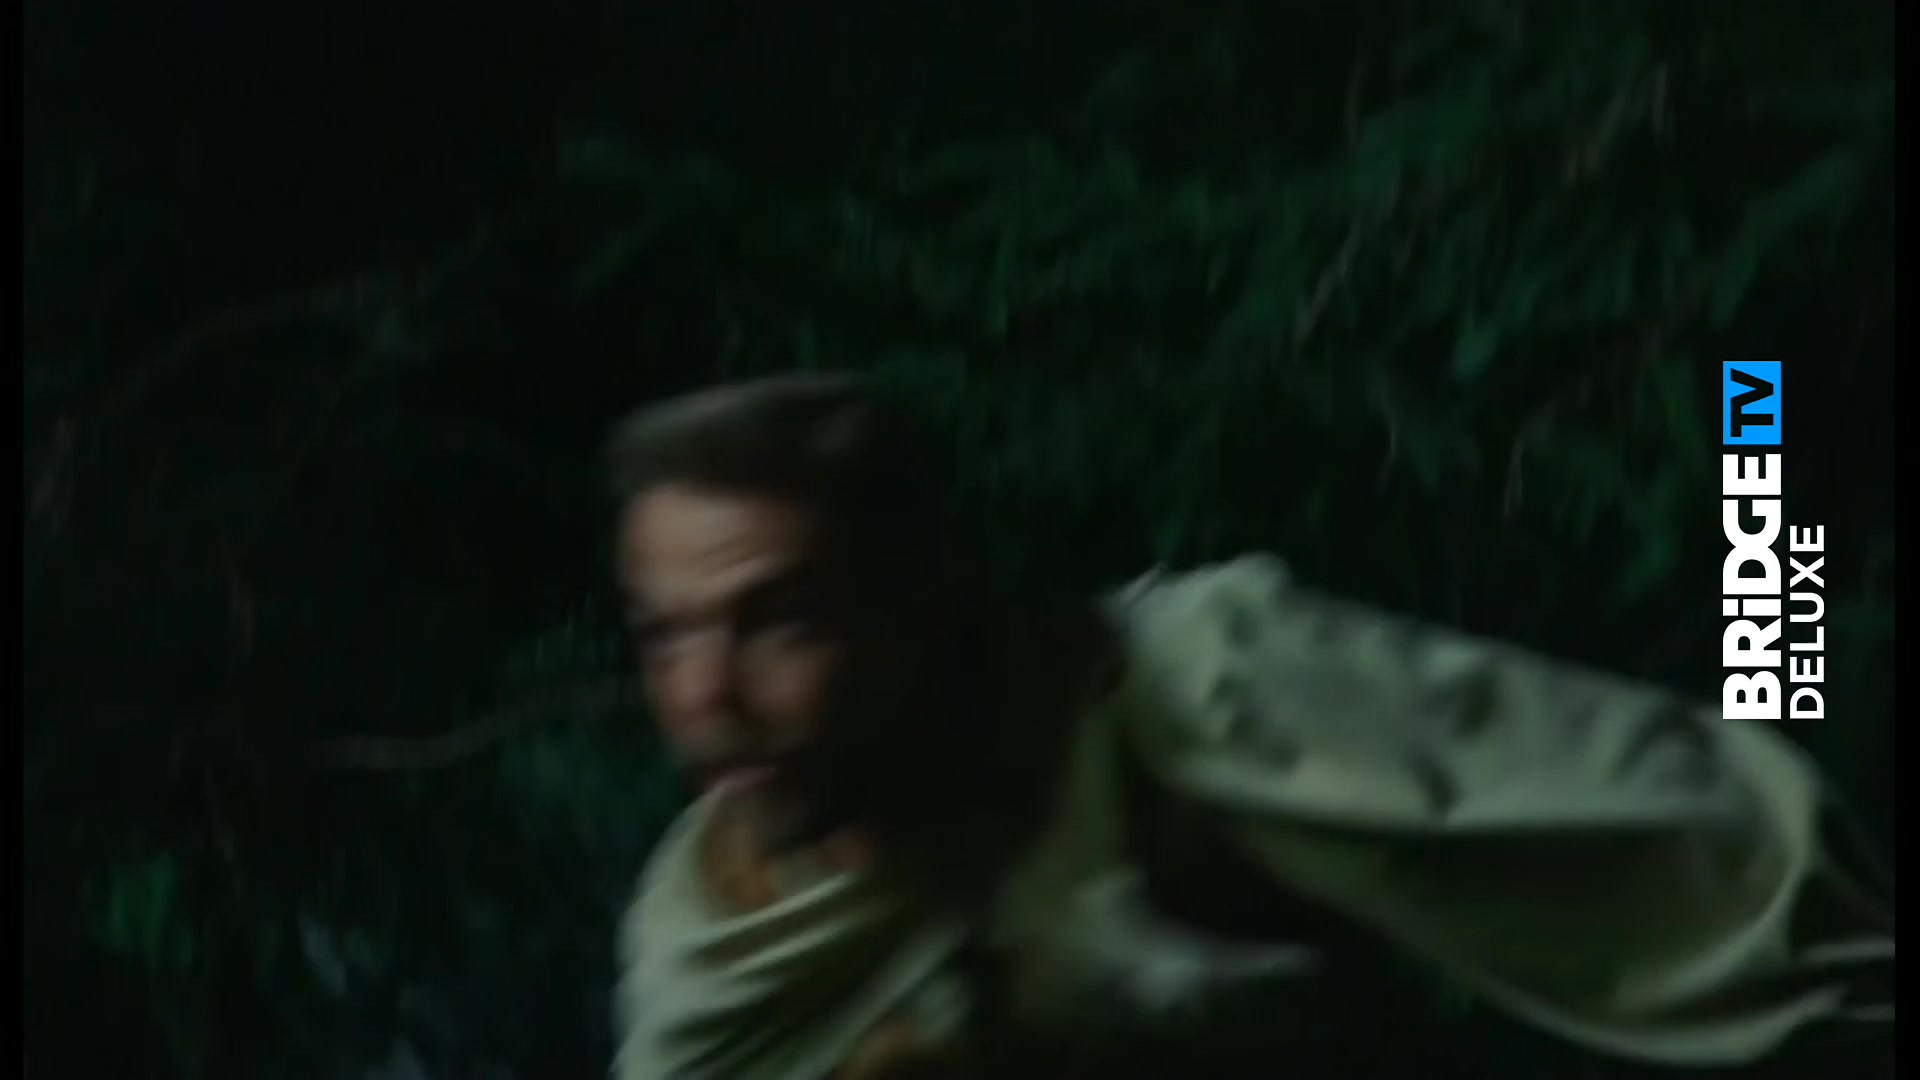Bridge_TV_Deluxe: (1718, 356, 1829, 727)
